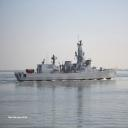Fragata: (14, 35, 119, 85)
